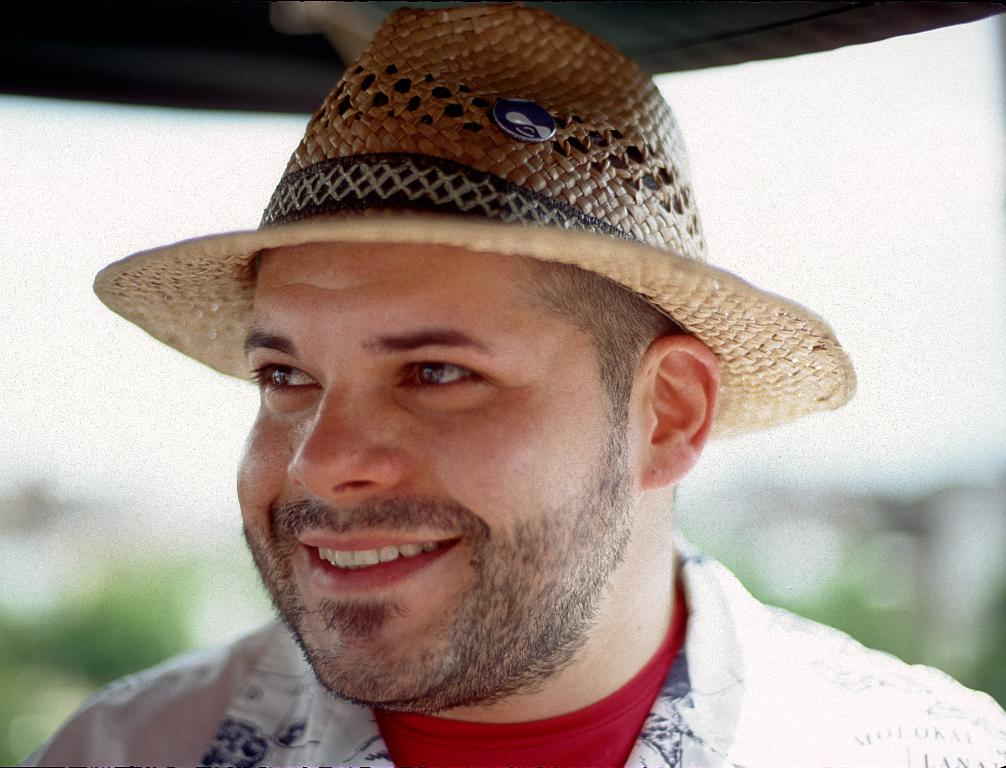face: (192, 191, 765, 741)
